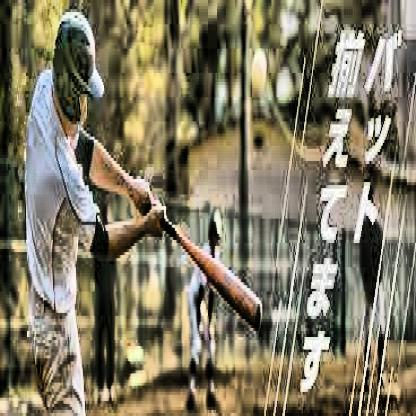baseball: (250, 48, 267, 101)
